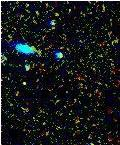star: (10, 69, 40, 99)
